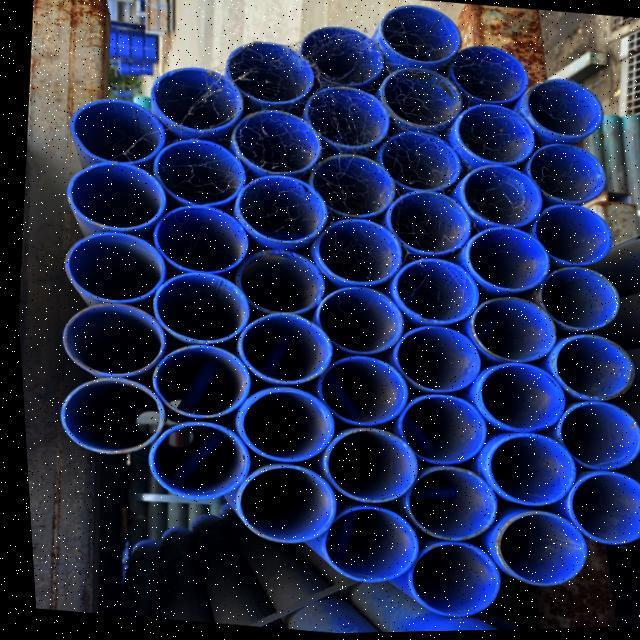pipe: (131, 415, 253, 511), (45, 370, 166, 462), (46, 296, 169, 382), (224, 459, 338, 551), (394, 537, 504, 629), (50, 225, 170, 309), (480, 506, 592, 596), (225, 382, 337, 471), (310, 422, 420, 512), (142, 340, 256, 426), (309, 501, 420, 589), (391, 460, 499, 550), (54, 154, 170, 236), (224, 306, 335, 391), (472, 428, 578, 516), (143, 267, 254, 349), (137, 58, 248, 140), (225, 167, 334, 249), (141, 201, 252, 281), (386, 388, 488, 474), (306, 350, 411, 433), (462, 359, 567, 440), (302, 214, 408, 294), (62, 88, 168, 168), (303, 282, 408, 361), (217, 34, 323, 112), (144, 132, 250, 210), (382, 320, 485, 399), (224, 102, 328, 180), (458, 291, 560, 370), (543, 398, 640, 481), (380, 253, 482, 331), (226, 242, 328, 319), (454, 222, 554, 300), (540, 330, 640, 408), (378, 185, 476, 262), (554, 468, 640, 554), (302, 147, 398, 224), (515, 72, 610, 149), (368, 0, 469, 72), (450, 161, 549, 234), (299, 82, 396, 156), (292, 19, 390, 92), (528, 264, 620, 340), (524, 199, 618, 272), (444, 101, 540, 172), (370, 127, 466, 198), (442, 39, 536, 109), (372, 66, 466, 134), (519, 138, 610, 208)
